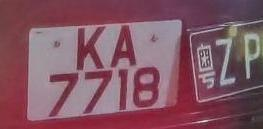1: (111, 66, 133, 116)
4: (107, 20, 143, 75)
7: (45, 69, 83, 121), (78, 66, 116, 117)
8: (128, 62, 164, 112)
K: (70, 22, 110, 75)
